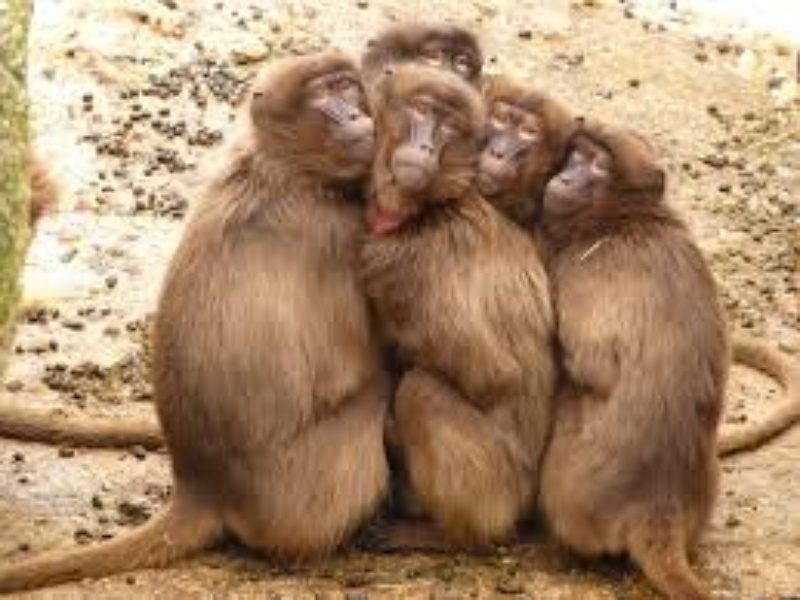monkey: (108, 14, 775, 585)
